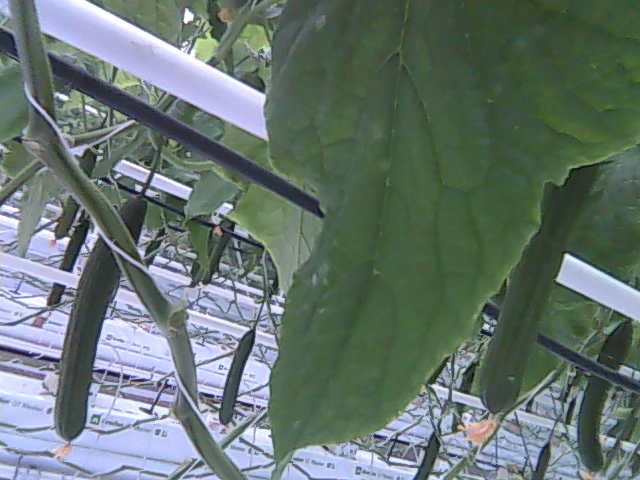concombre: (475, 161, 601, 451), (49, 197, 151, 462)
